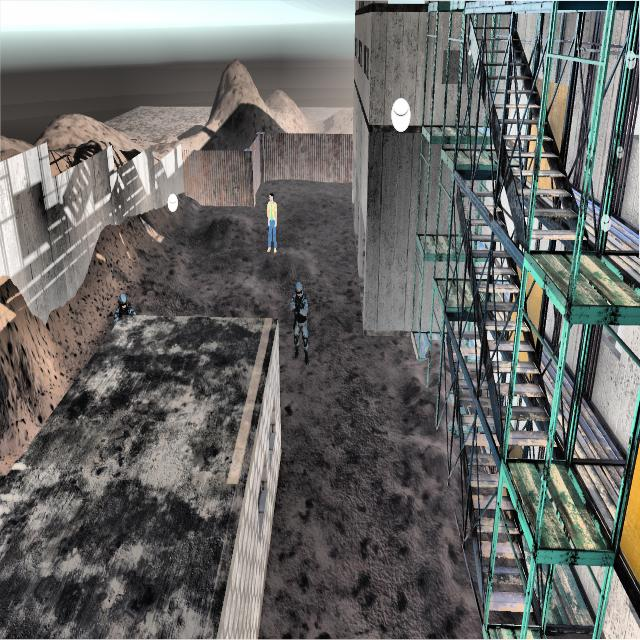bad: (288, 275, 314, 375), (112, 288, 136, 321)
good: (262, 186, 282, 256)
